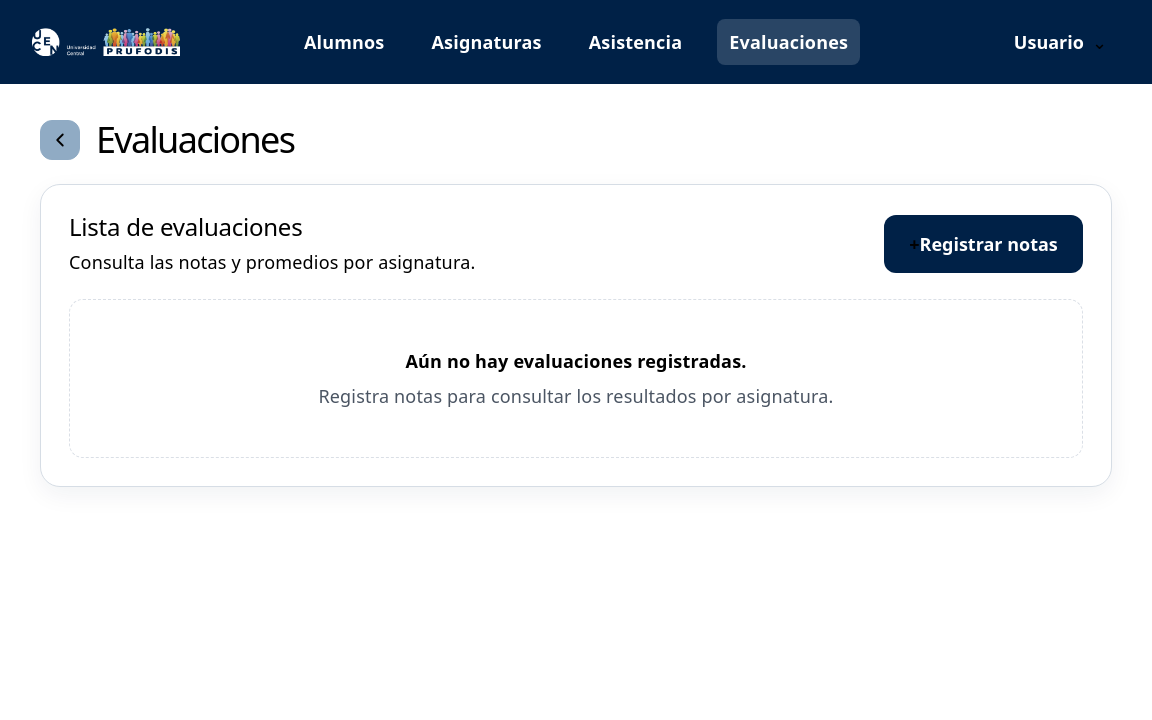
Scenario: EvaluacionesPage: registro de notas › CP-05: rechaza la nota fuera de rango 7,1
Step 1. Click the button "+ Registrar notas" → (984, 244), box [884,215,1083,274]
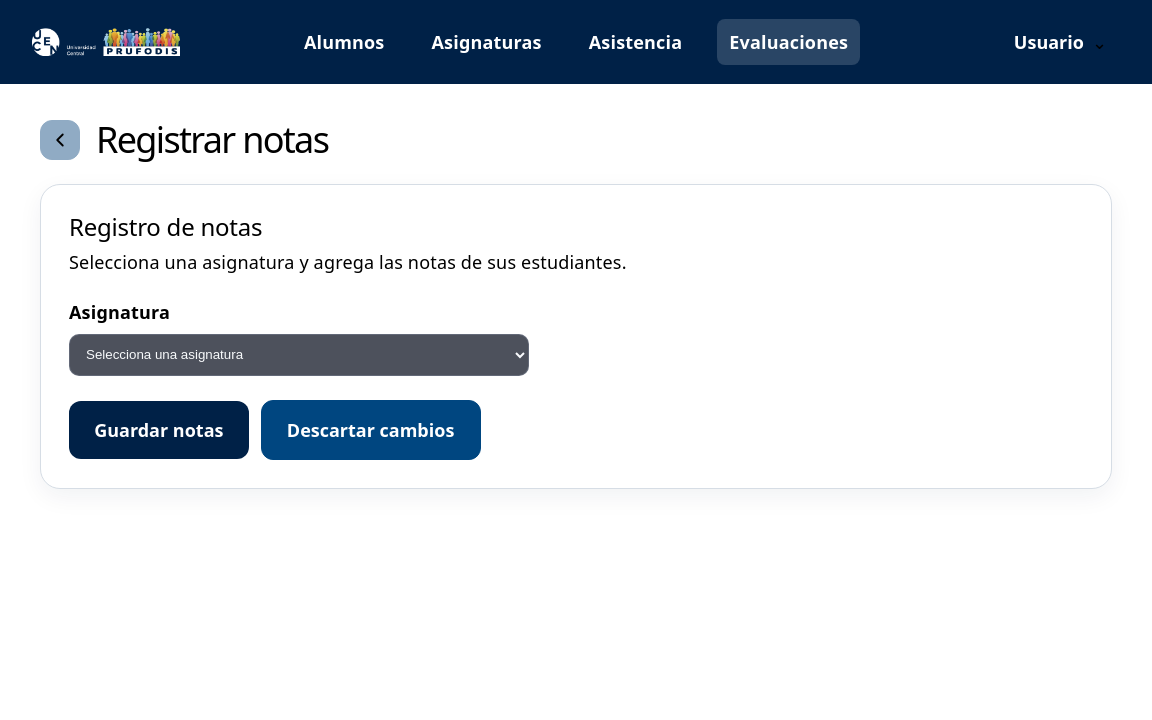
Step 2. Select "Matemáticas" in the dropdown labelled "Asignatura" → (299, 354), box [69,334,529,376]
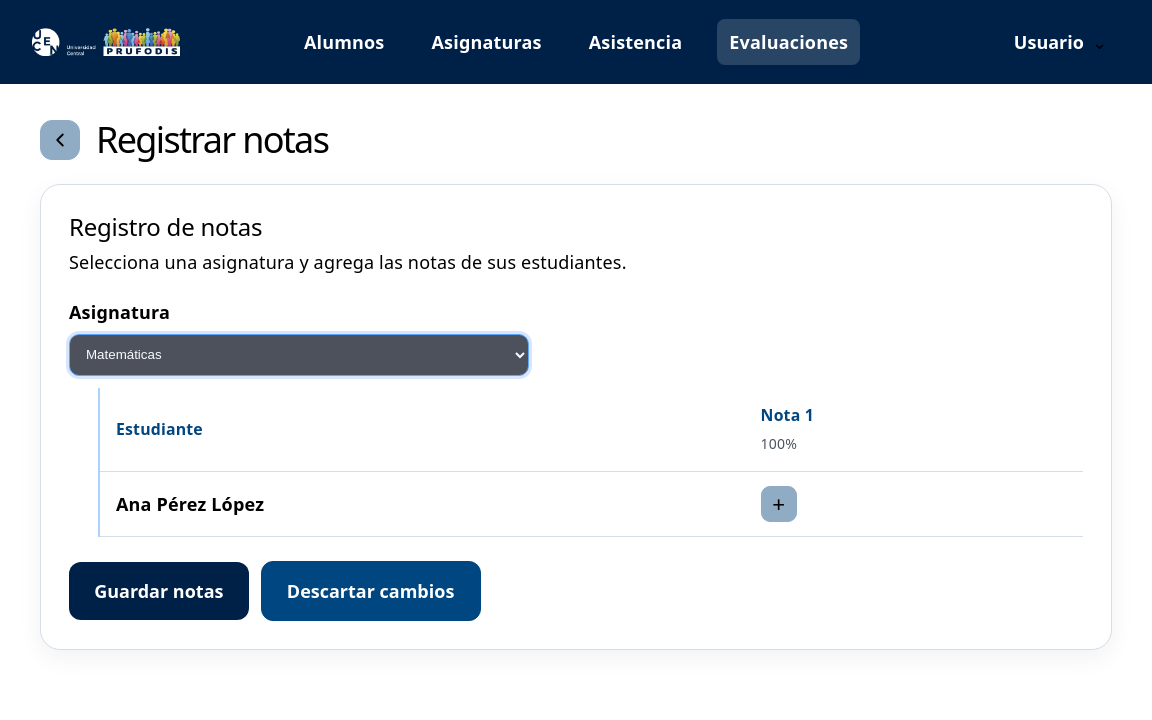
Step 3. Click the button named "Agregar nota 1 a Ana Pérez López" → (779, 504), box [761,486,797,522]
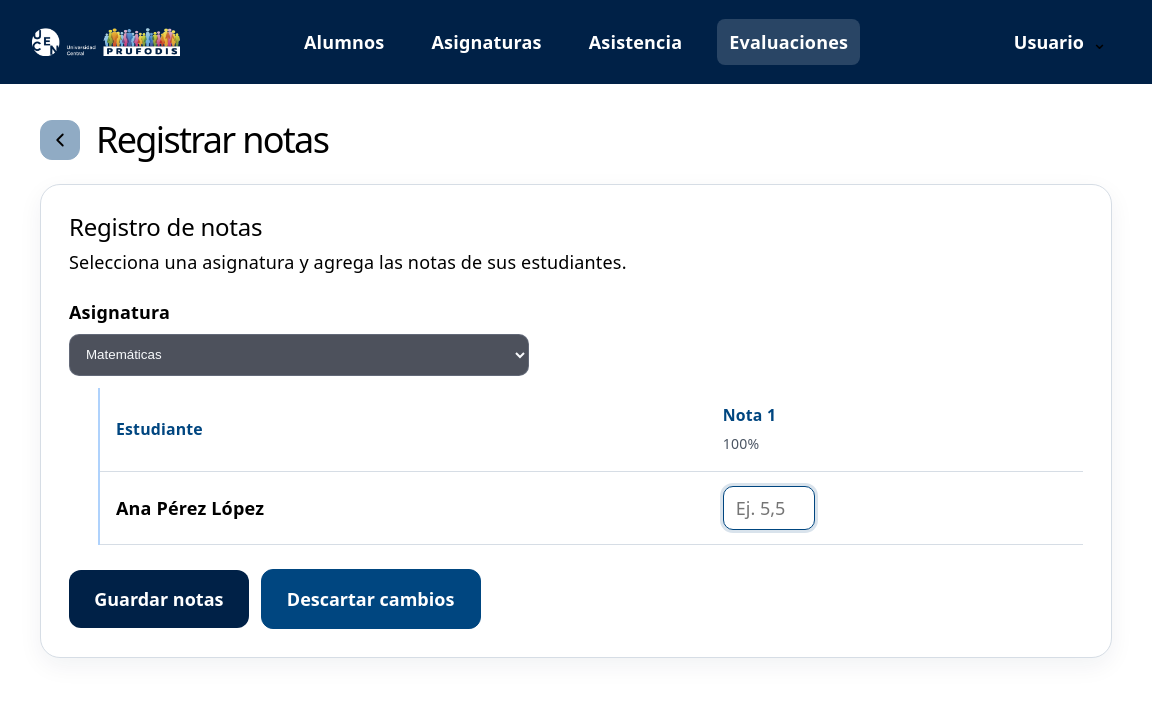
Step 4. Type "7,1" into the field named "Nota 1 de Ana Pérez López" → (769, 508), box [723,486,815,530]
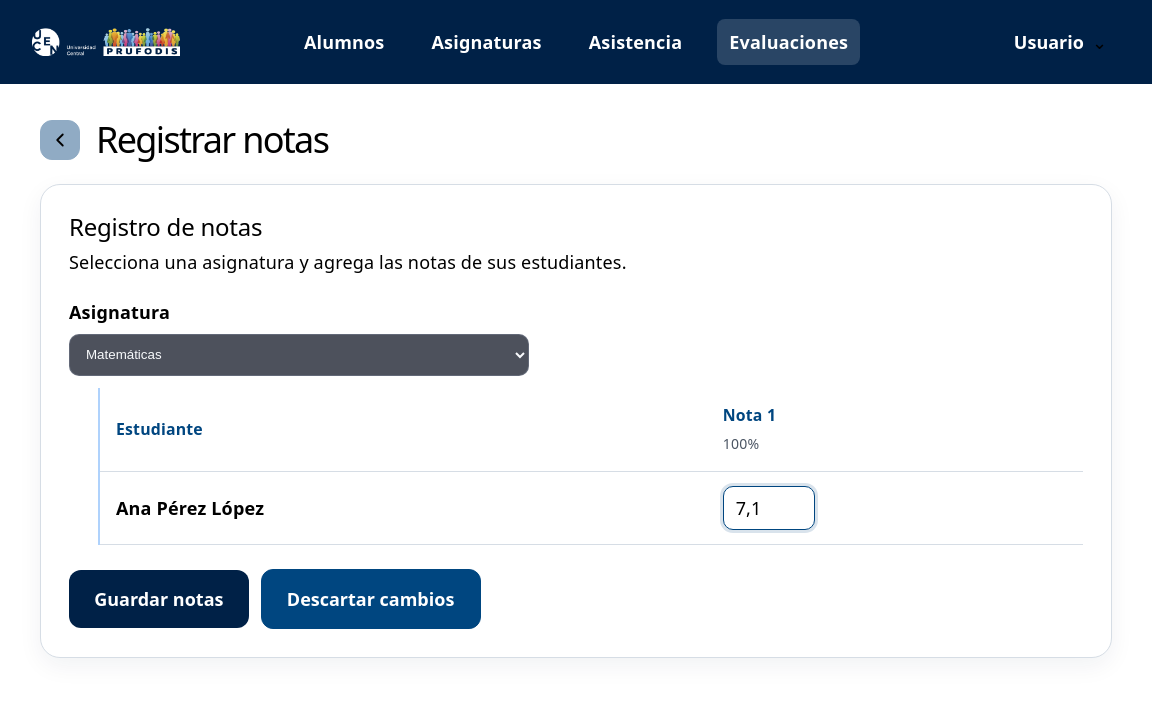
Step 5. Press Enter
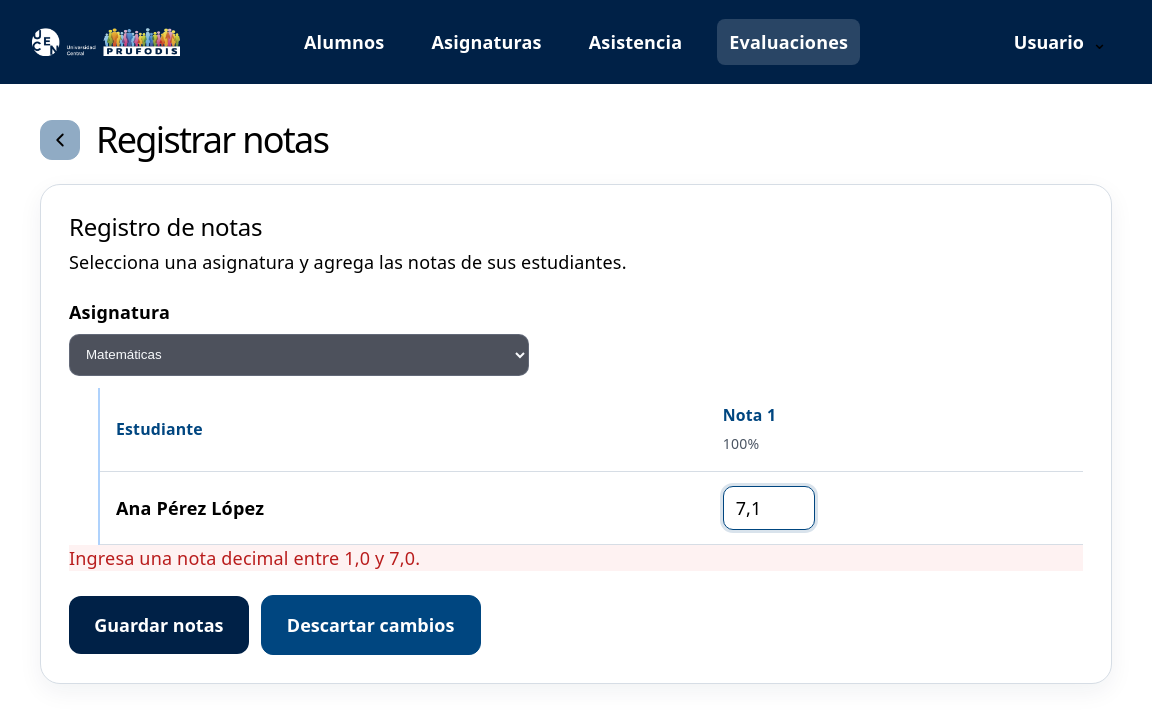
Expected: the message reads "Ingresa una nota decimal entre 1,0 y 7,0.", [69,546,420,570]
